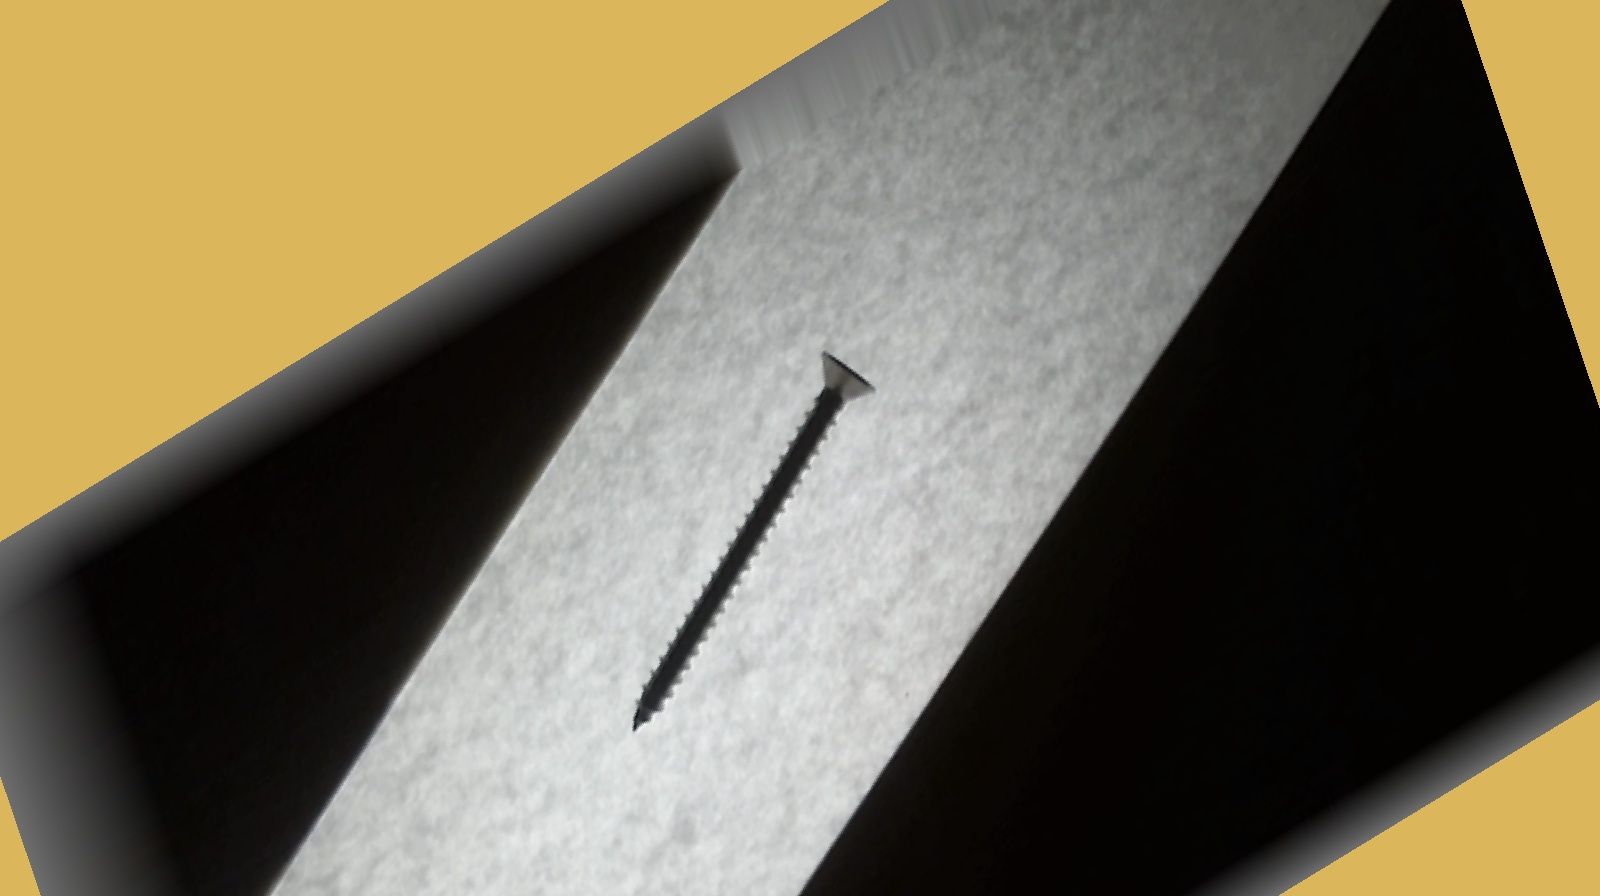S002: (545, 302, 949, 752)
